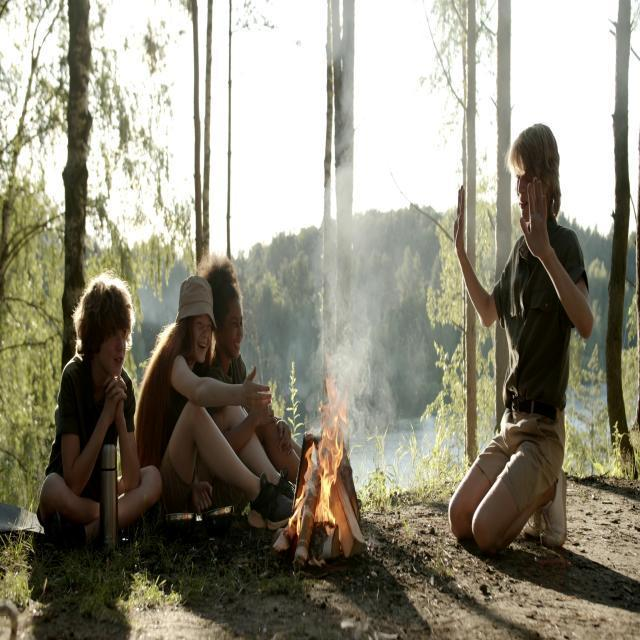Fire: (290, 393, 346, 536)
Smoke: (289, 154, 442, 468)
